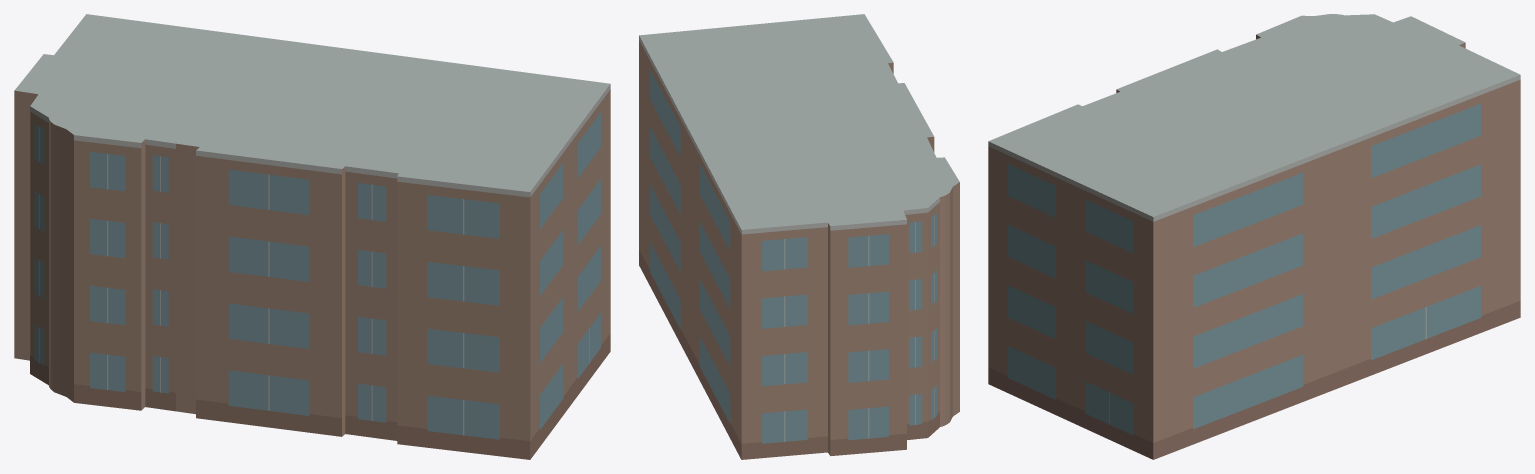
File: survey-upis-32838845.glb
The picture shows the model from 3 angles, left to right: view 1: azimuth 30°, elevation 25°; view 2: azimuth 150°, elevation 25°; view 3: azimuth 270°, elevation 25°; orthographic projection. The views are drawn at different scales.
Parts seen in each view (by area): view 1: survey-upis-32838845.tmp; view 2: survey-upis-32838845.tmp; view 3: survey-upis-32838845.tmp.
Part boxes in pixels (x1,y1,x2,y2): survey-upis-32838845.tmp: [14, 14, 610, 459]; survey-upis-32838845.tmp: [639, 14, 959, 459]; survey-upis-32838845.tmp: [988, 14, 1520, 459].
Bounding box in the file's own units: 22.08 × 12.3 × 24.45.
